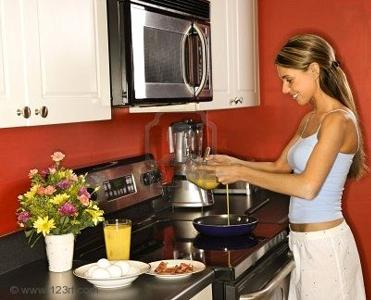person: (194, 32, 370, 300)
